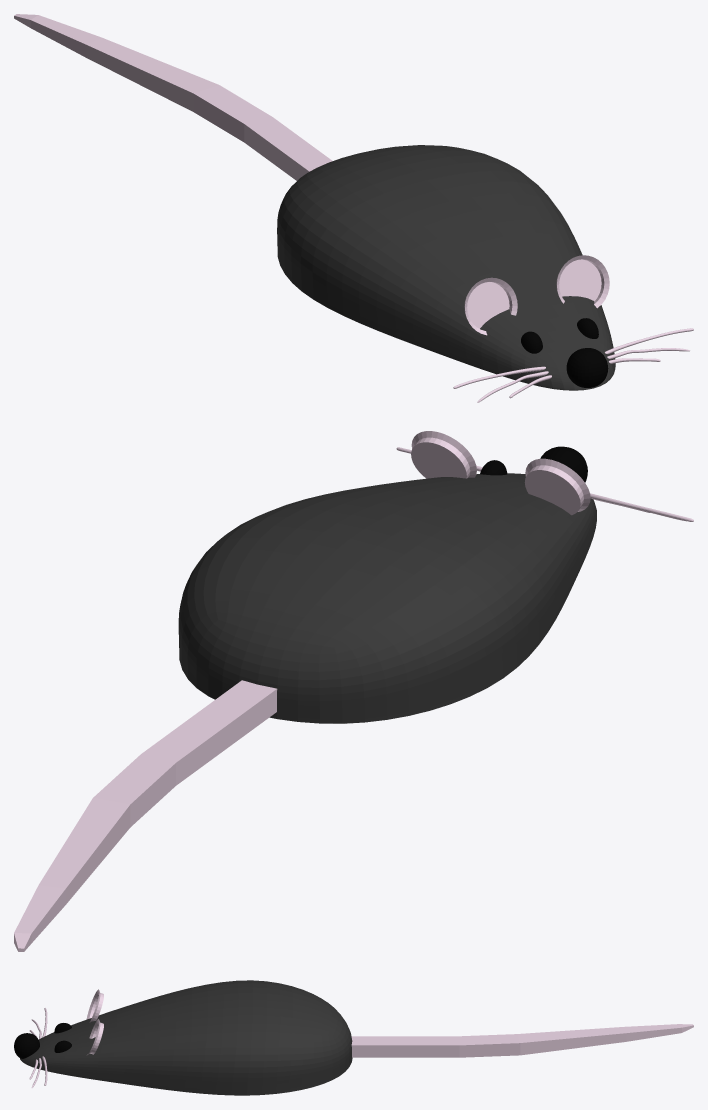
The model's file is mouse.fbx.
3 renders of one model, top to bottom at view 1: azimuth 30°, elevation 25°; view 2: azimuth 150°, elevation 25°; view 3: azimuth 270°, elevation 25°, orthographic. The views are drawn at different scales.
Visible parts, largest first — view 1: Cube.009, Cube, Cube.001, Cylinder, Cylinder.002, Cube.004; view 2: Cube.009, Cube, Cube.001, Cylinder.002, Cylinder; view 3: Cube, Cube.009, Cube.001, Cube.012, Cylinder.002, Cylinder.
Boxes of the visible parts, x1,y1,x2,y2 form: Cube.009: (278,145,600,390); Cube: (277,145,615,389); Cube.001: (14,14,332,180); Cylinder: (556,255,609,308); Cylinder.002: (464,277,517,335); Cube.004: (566,348,597,387); Cube.009: (178,474,596,722); Cube: (180,473,562,723); Cube.001: (14,680,277,951); Cylinder.002: (524,458,590,515); Cylinder: (411,431,476,478); Cube: (20,985,351,1095); Cube.009: (39,980,352,1095); Cube.001: (351,1024,693,1057); Cube.012: (14,1034,39,1058); Cylinder.002: (86,989,103,1022); Cylinder: (87,1019,103,1054).
Size of the model in its own units: 222 by 78.56 by 823.
